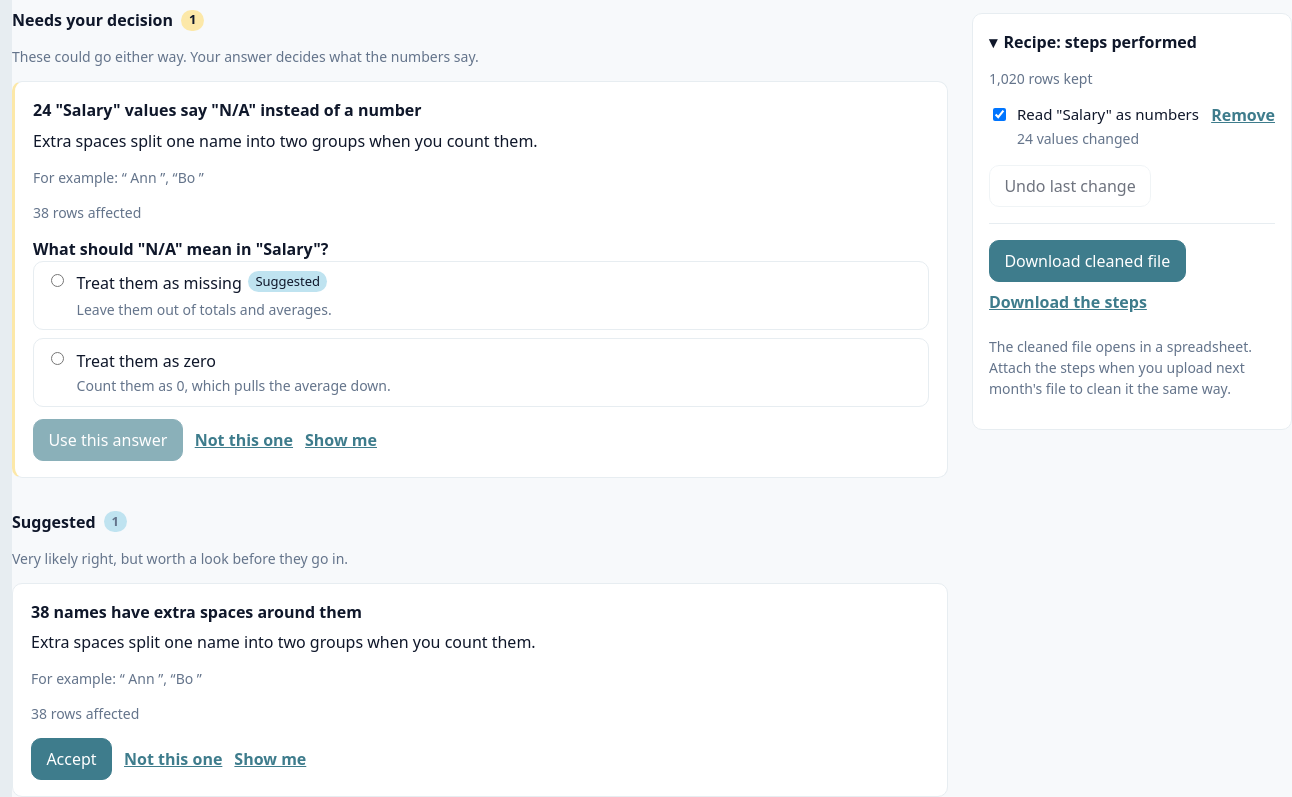
ReviewPage › marks rows that would be set aside
(page scrolled)
Expected: the heading "Suggested 1" is shown, [12,511,127,533]
Click the 2nd button "Show me" at (270, 759), box [234,747,306,771]
(page scrolled)
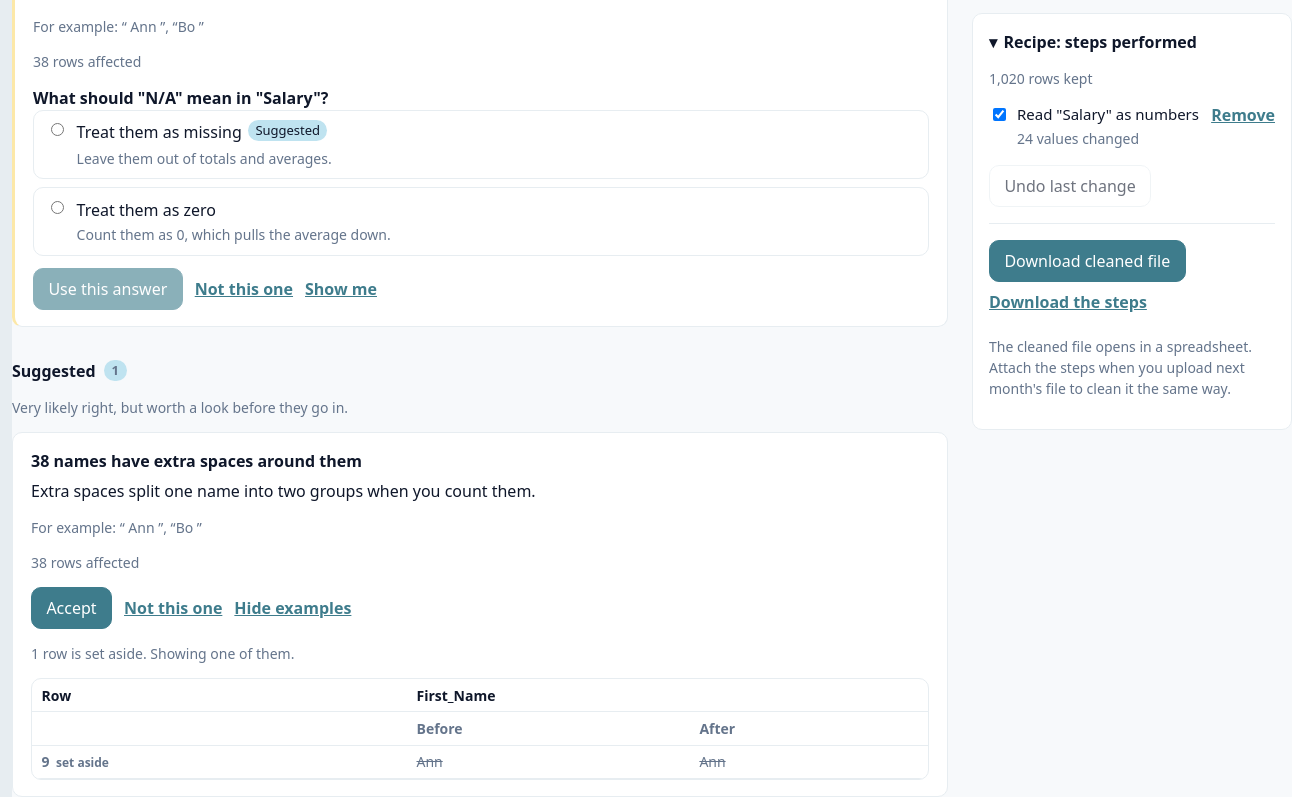
Expected: the text "set aside" is shown, [56,754,109,771]
